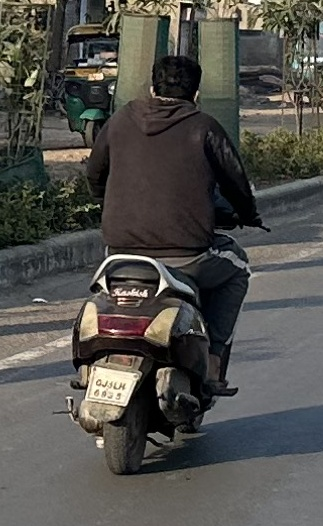BikeWithRider: (47, 47, 276, 480)
NoHelmet: (138, 49, 212, 113)
